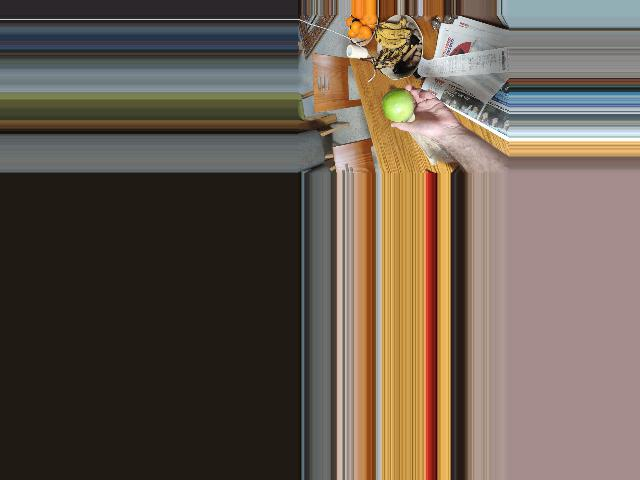apple: (380, 88, 414, 120)
